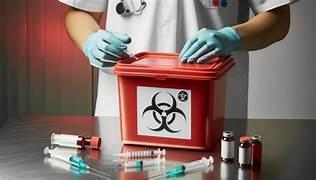Glove: (179, 27, 240, 62), (83, 30, 130, 67)
Iv_Bottle: (51, 133, 100, 148), (238, 136, 251, 167), (221, 131, 234, 161), (251, 135, 261, 165)
Syringe: (44, 147, 108, 177), (146, 156, 213, 178), (120, 157, 164, 168), (113, 148, 165, 157), (124, 49, 138, 59)
